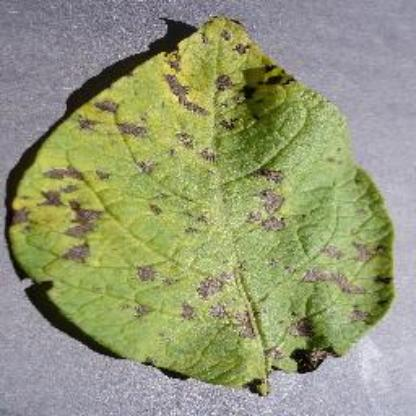Early-Blight: (9, 13, 414, 393)
